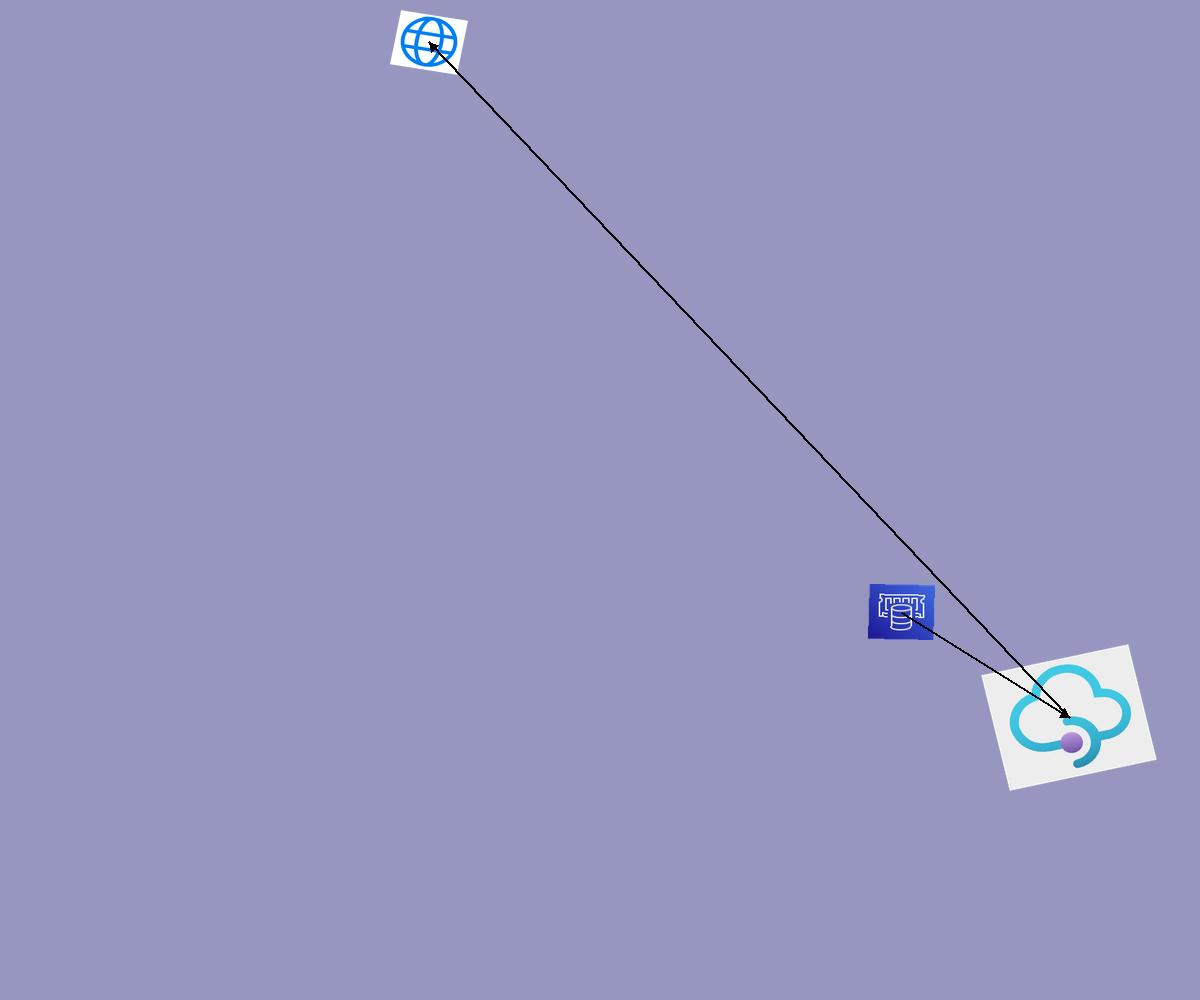AWS-ElastiCache: (868, 584, 935, 640)
Azure_api_gateway: (981, 644, 1157, 791)
Azure_http: (390, 10, 468, 75)
